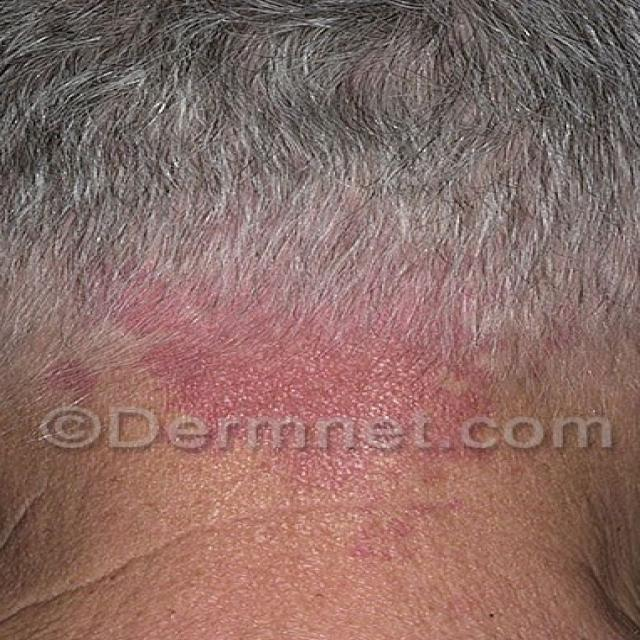Vascular Tumors: (70, 251, 580, 484)
